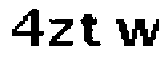4: (8, 5, 45, 52)
t: (77, 12, 104, 51)
w: (110, 14, 160, 49)
z: (45, 16, 77, 49)
